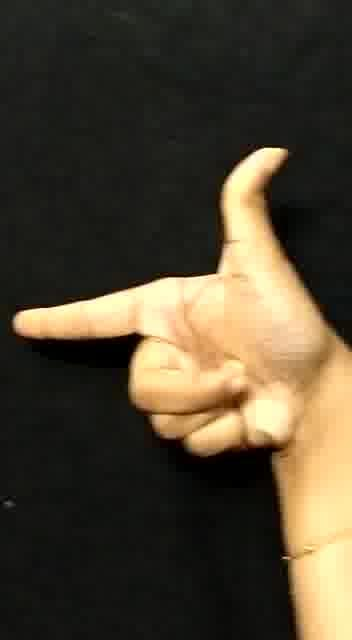chandrakala: (6, 125, 351, 499)
